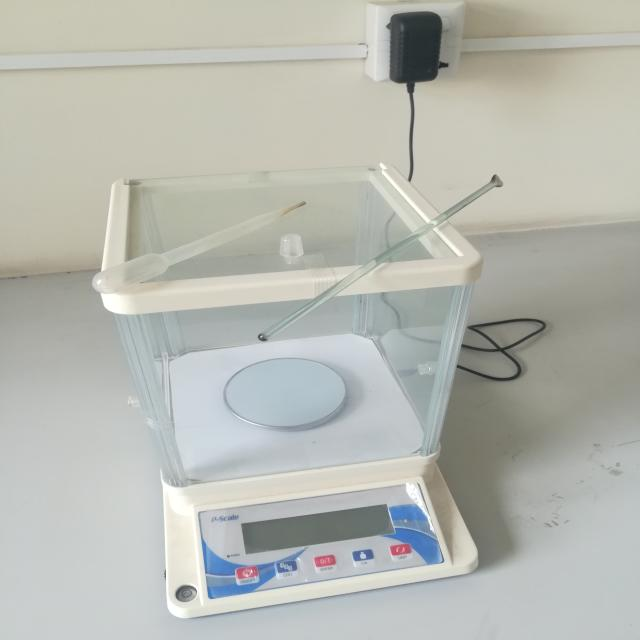Glass_Rod: (249, 157, 536, 365)
Pipette: (84, 189, 327, 302)
